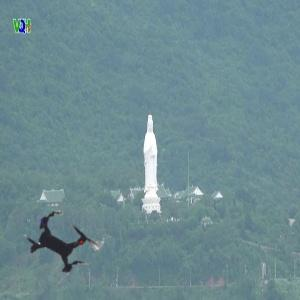drone: (5, 184, 121, 300)
